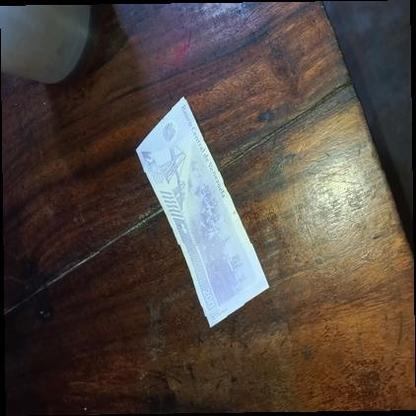two_hundred-back-vef: (134, 95, 270, 328)
